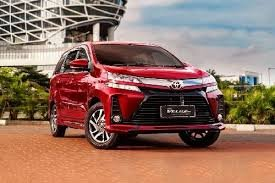mobil: (47, 40, 218, 147)
